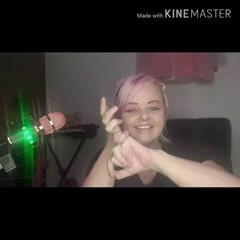S: (93, 92, 153, 187)
